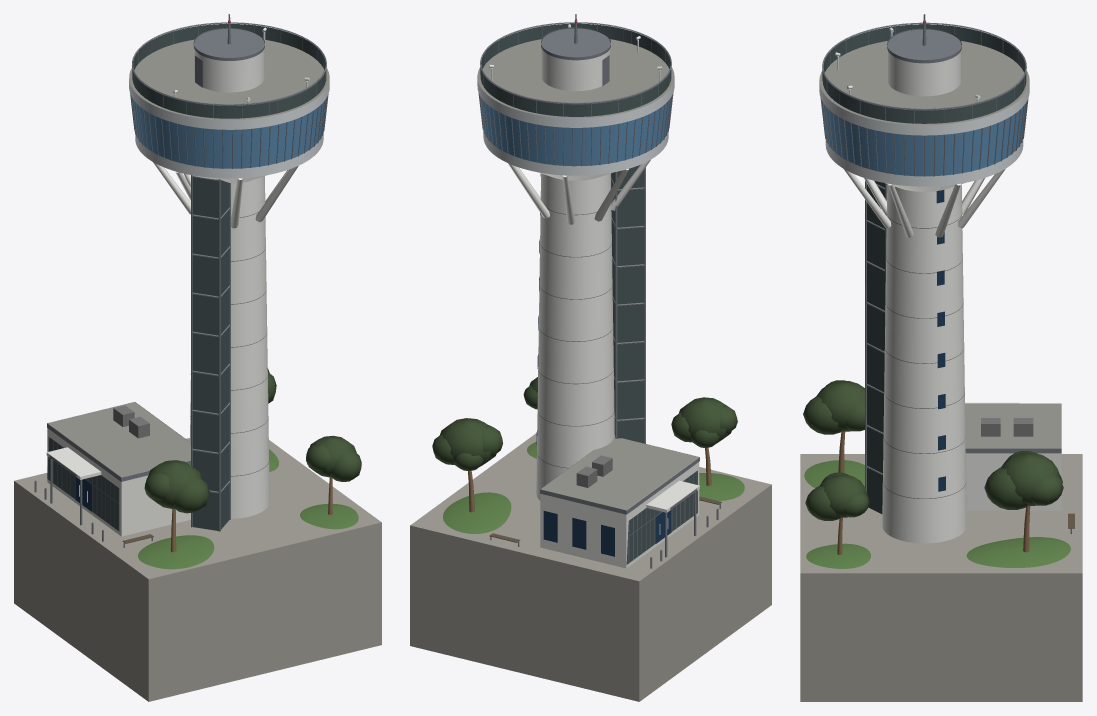
Rendered from top-prebuilt_close.fbx.
3 views of the same model, side by side, from view 1: azimuth 30°, elevation 25°; view 2: azimuth 150°, elevation 25°; view 3: azimuth 270°, elevation 25° (orthographic). The views are drawn at different scales.
Parts seen in each view (by area): view 1: a1067/0/top-prebuilt_close; view 2: a1067/0/top-prebuilt_close; view 3: a1067/0/top-prebuilt_close.
Boxes of the visible parts, box(x1,y1,x2,y2) form: a1067/0/top-prebuilt_close: box(14, 14, 381, 701); a1067/0/top-prebuilt_close: box(410, 14, 771, 701); a1067/0/top-prebuilt_close: box(800, 14, 1082, 701).
Size of the model in its own units: 20 by 50 by 20.
